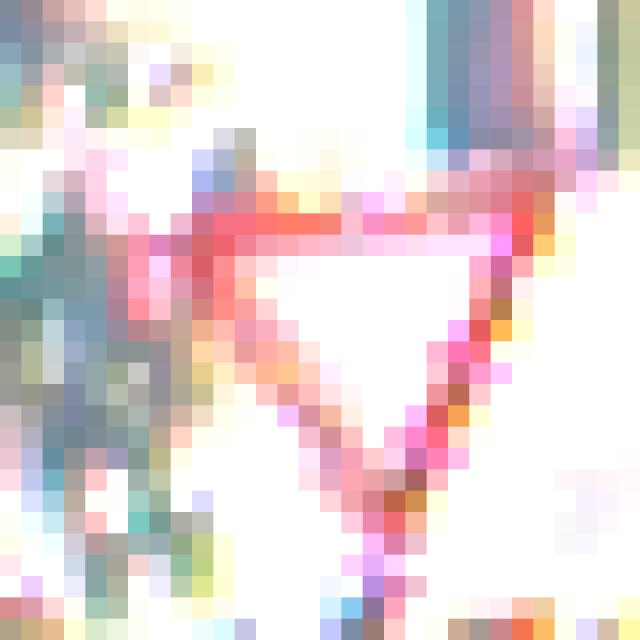Give Way: (129, 129, 534, 513)
